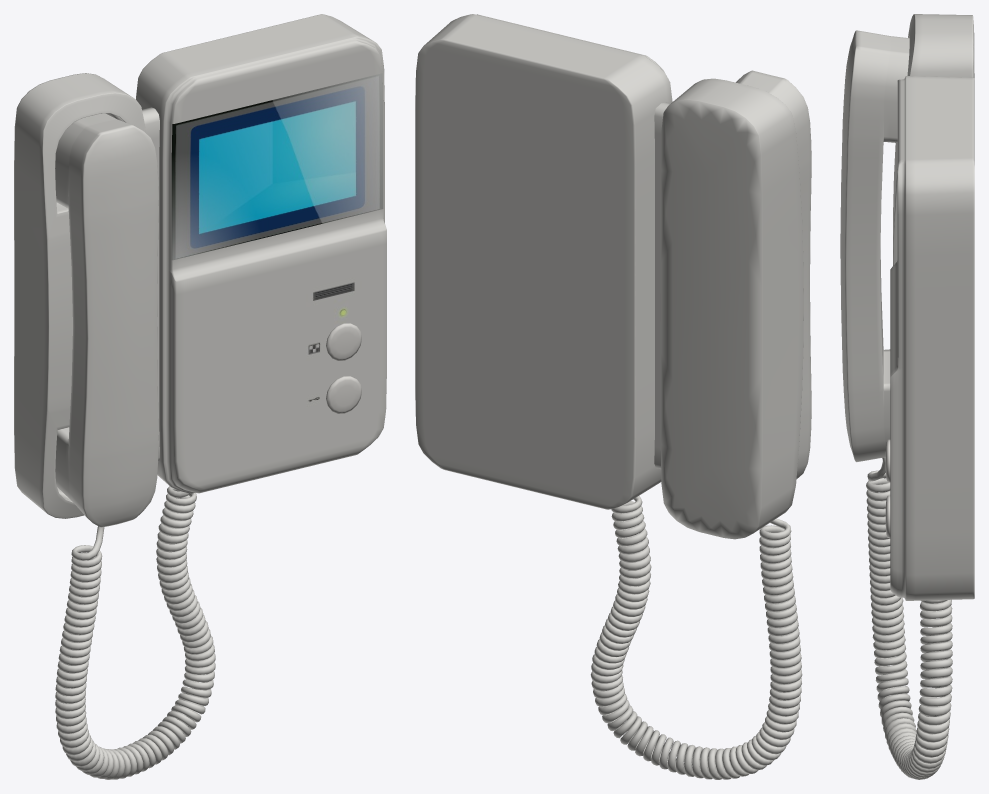
Rendered from intercom_with_screen.glb.
The picture shows the model from 3 angles, left to right: view 1: azimuth 30°, elevation 25°; view 2: azimuth 150°, elevation 25°; view 3: azimuth 270°, elevation 25°; orthographic projection. The views are drawn at different scales.
Parts seen in each view (by area): view 1: Cube.001, Circle.001, Cylinder.001, Cylinder; view 2: Cube.001, Circle.001; view 3: Cube.001, Circle.001.
Part boxes in pixels (<box>): Cube.001: <box>14,14,386,527</box>; Circle.001: <box>55,486,215,779</box>; Cylinder.001: <box>326,323,361,360</box>; Cylinder: <box>326,376,361,413</box>; Cube.001: <box>415,14,811,539</box>; Circle.001: <box>590,496,802,779</box>; Cube.001: <box>840,14,974,600</box>; Circle.001: <box>866,457,952,779</box>.
Bounding box in the file's own units: 1.91 × 3.63 × 0.6138.
Materials: 3 (1 with a texture image).
